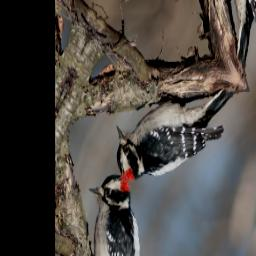Woodpecker: (101, 19, 241, 230)
